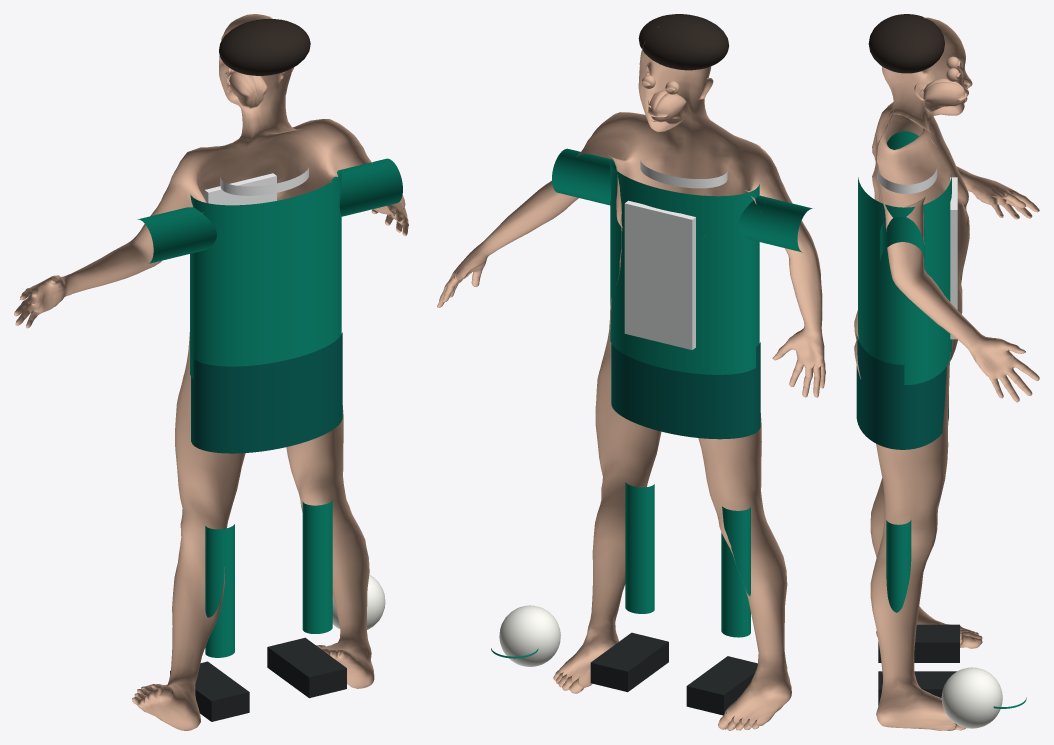
Rendered from player_premium_mpfb.glb.
3 views of the same model, side by side, from view 1: azimuth 30°, elevation 25°; view 2: azimuth 150°, elevation 25°; view 3: azimuth 270°, elevation 25° (orthographic). The views are drawn at different scales.
Parts seen in each view (by area): view 1: mpfb_hm08_athlete_body, fitted_jersey_torso, athletic_shorts, short_dark_hair_cap, right_sock, left_sock, right_boot, right_short_sleeve, left_short_sleeve, left_boot, front_kit_stripe, training_ball (+1 smaller); view 2: mpfb_hm08_athlete_body, fitted_jersey_torso, athletic_shorts, front_kit_stripe, short_dark_hair_cap, right_sock, left_sock, right_boot, training_ball, left_short_sleeve, left_boot, right_short_sleeve (+1 smaller); view 3: mpfb_hm08_athlete_body, fitted_jersey_torso, athletic_shorts, short_dark_hair_cap, training_ball, right_sock, left_boot, right_short_sleeve, front_kit_stripe, right_boot, neck_trim, left_short_sleeve.
Boxes of the visible parts, x1,y1,x2,y2 form: mpfb_hm08_athlete_body: (14,14,408,730); fitted_jersey_torso: (190,171,341,379); athletic_shorts: (191,332,342,453); short_dark_hair_cap: (219,18,310,75); right_sock: (302,500,332,633); left_sock: (205,524,234,657); right_boot: (267,637,346,698); right_short_sleeve: (331,158,402,216); left_short_sleeve: (137,207,216,263); left_boot: (170,661,249,721); front_kit_stripe: (204,173,276,205); training_ball: (332,574,385,629); mpfb_hm08_athlete_body: (437,27,825,730); fitted_jersey_torso: (610,163,759,374); athletic_shorts: (611,342,760,439); front_kit_stripe: (624,200,695,349); short_dark_hair_cap: (638,14,728,70); right_sock: (625,482,654,613); left_sock: (721,506,750,637); right_boot: (590,632,668,692); training_ball: (499,605,560,666); left_short_sleeve: (738,195,812,252); left_boot: (686,656,757,715); right_short_sleeve: (552,148,616,205); mpfb_hm08_athlete_body: (854,17,1039,730); fitted_jersey_torso: (858,174,951,385); athletic_shorts: (856,334,948,449); short_dark_hair_cap: (868,14,944,73); training_ball: (941,667,1002,728); right_sock: (886,520,911,612); left_boot: (878,624,959,662); right_short_sleeve: (880,216,925,260); front_kit_stripe: (950,177,957,339); right_boot: (878,671,956,705); neck_trim: (877,167,937,193); left_short_sleeve: (886,131,918,149).
Size of the model in its own units: 1.07 by 1.79 by 0.4547.
